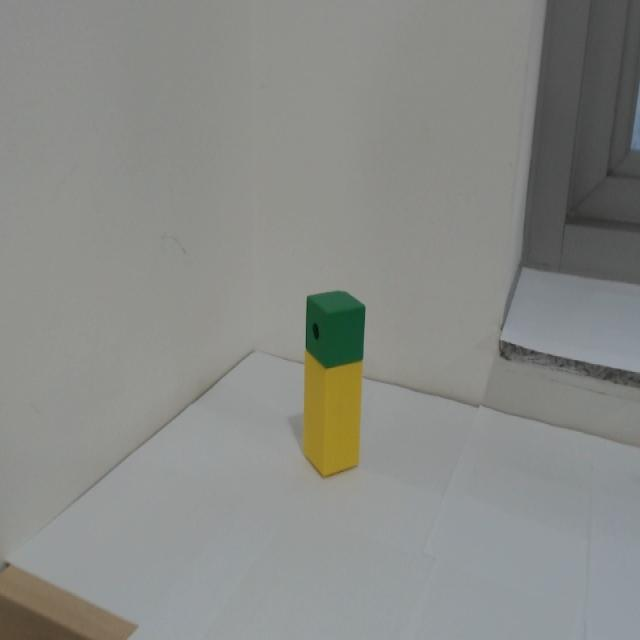cube: (299, 275, 372, 374)
